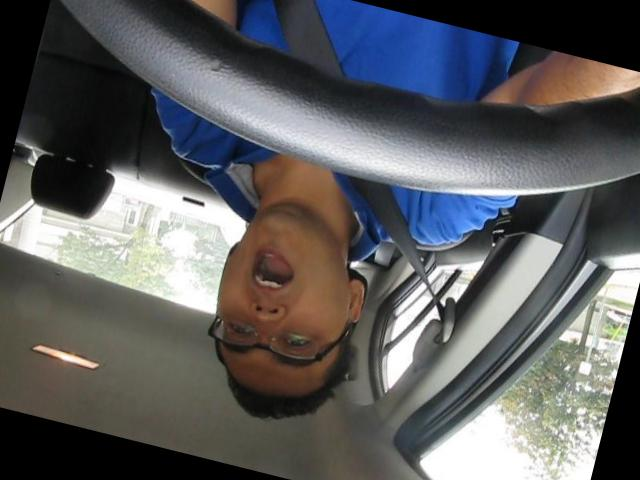eye_open: (276, 328, 318, 358), (220, 318, 258, 344)
face: (198, 196, 368, 402)
mouth_open: (242, 242, 306, 302)
